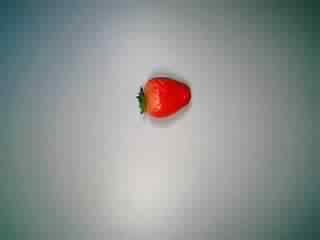strawberry: (129, 67, 198, 123)
